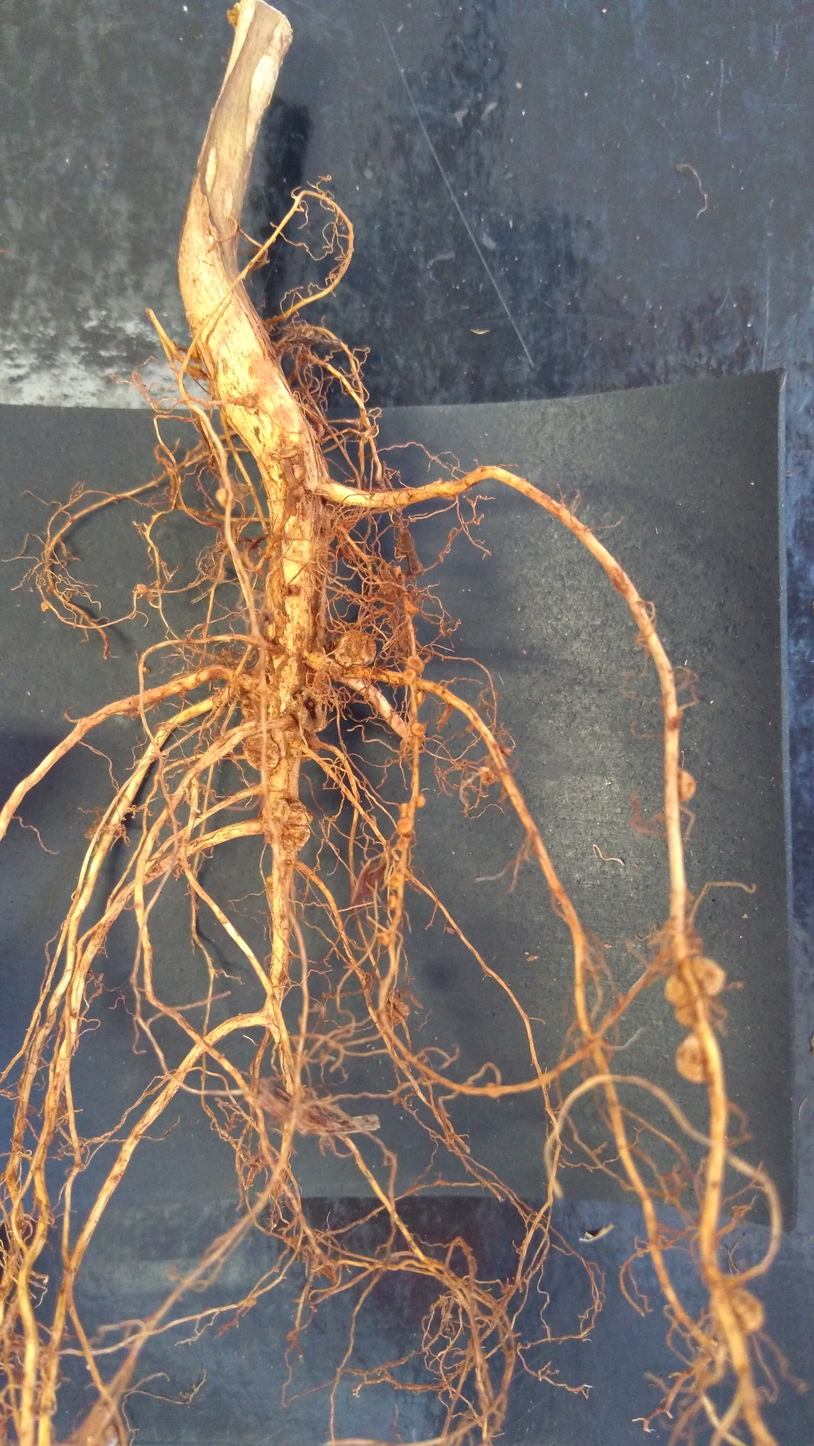nodule: (701, 1281, 771, 1345), (670, 1027, 710, 1088), (332, 627, 380, 673), (238, 726, 284, 773), (292, 686, 329, 733), (690, 954, 730, 997), (260, 797, 291, 846), (675, 991, 707, 1027), (673, 765, 700, 804), (382, 994, 411, 1030), (661, 972, 690, 1006), (280, 823, 312, 852), (210, 484, 238, 512), (285, 801, 313, 828), (262, 613, 285, 641), (400, 592, 421, 619), (277, 446, 304, 467), (404, 651, 424, 676), (407, 719, 431, 739), (240, 692, 259, 717), (478, 764, 498, 787), (396, 818, 415, 837), (414, 687, 428, 710), (390, 869, 406, 889), (402, 668, 420, 685), (414, 793, 431, 811), (292, 463, 306, 481), (396, 837, 411, 851), (399, 802, 411, 819), (388, 894, 399, 910), (294, 486, 306, 499), (136, 582, 149, 594), (379, 932, 389, 946), (40, 601, 51, 611)
